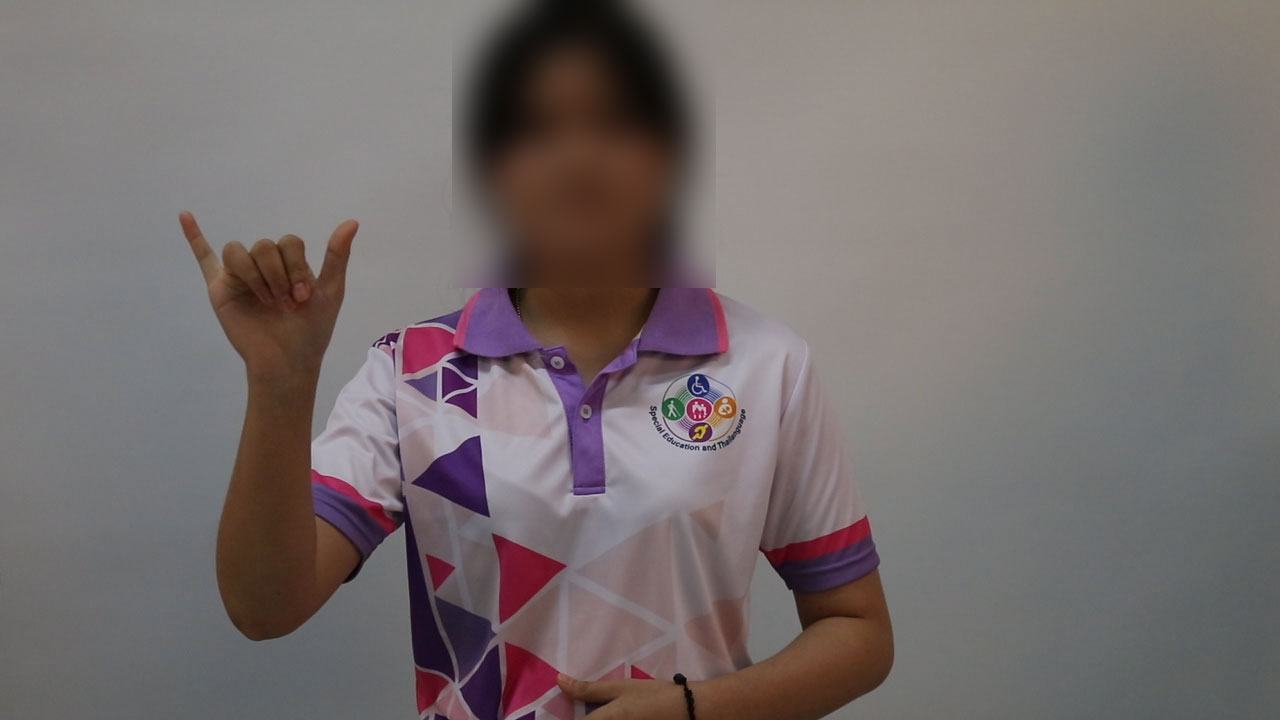yor: (164, 201, 400, 394)
